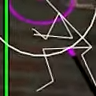hacks_2: (4, 1, 96, 96)
